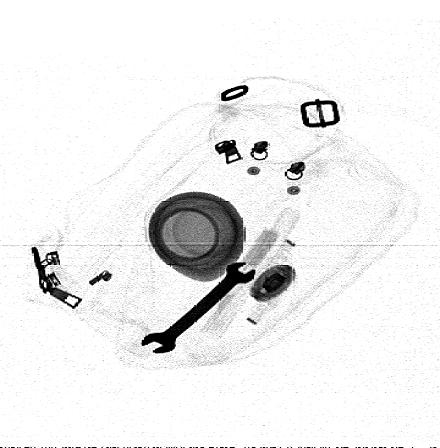Wrench: (139, 261, 256, 354)
